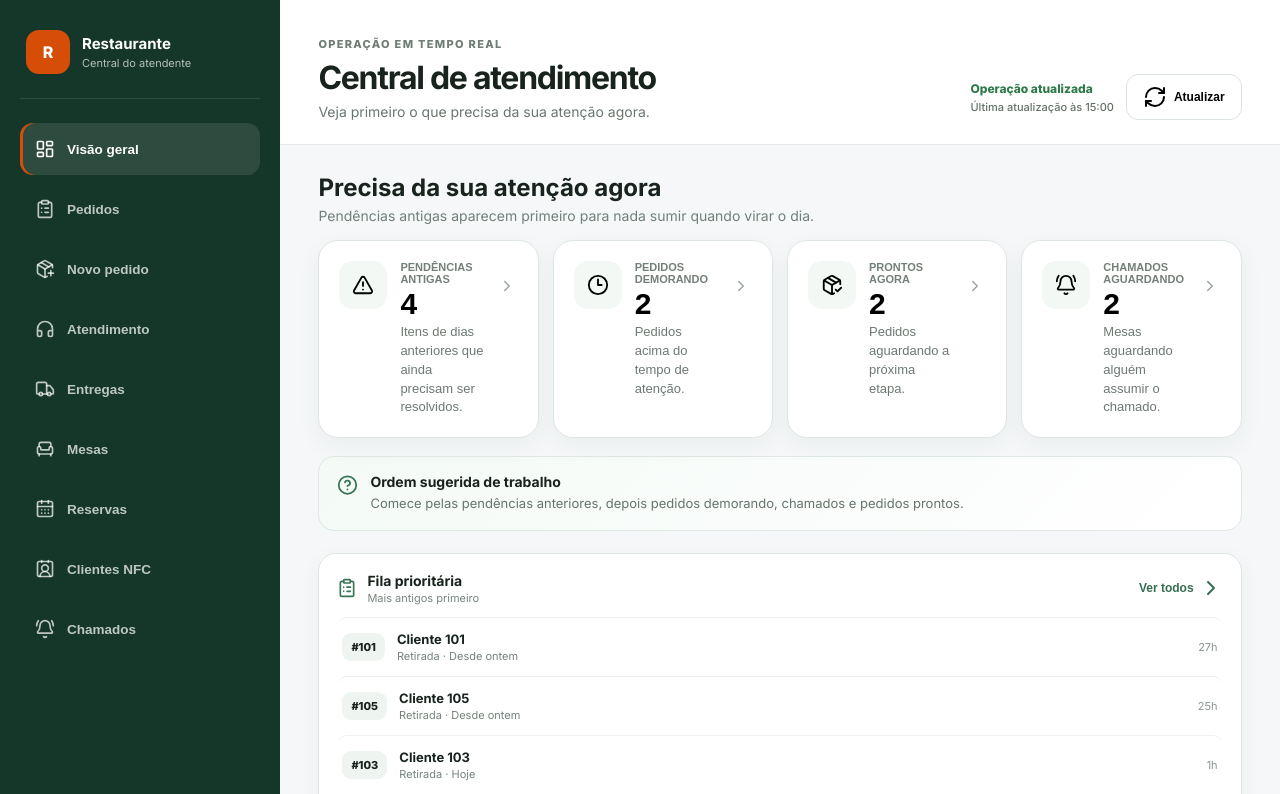
Test: AttendantOperationCenterV2 priority navigation › abre só pedidos prontos ou demorando, coerentes com a contagem do cartão
Expected: the 2nd text "2" is shown, [869,287,886,320]
Step 1. Click the button "Prontos agora 2 Pedidos aguardando a próxima etapa." → (897, 339), box [787,240,1007,438]
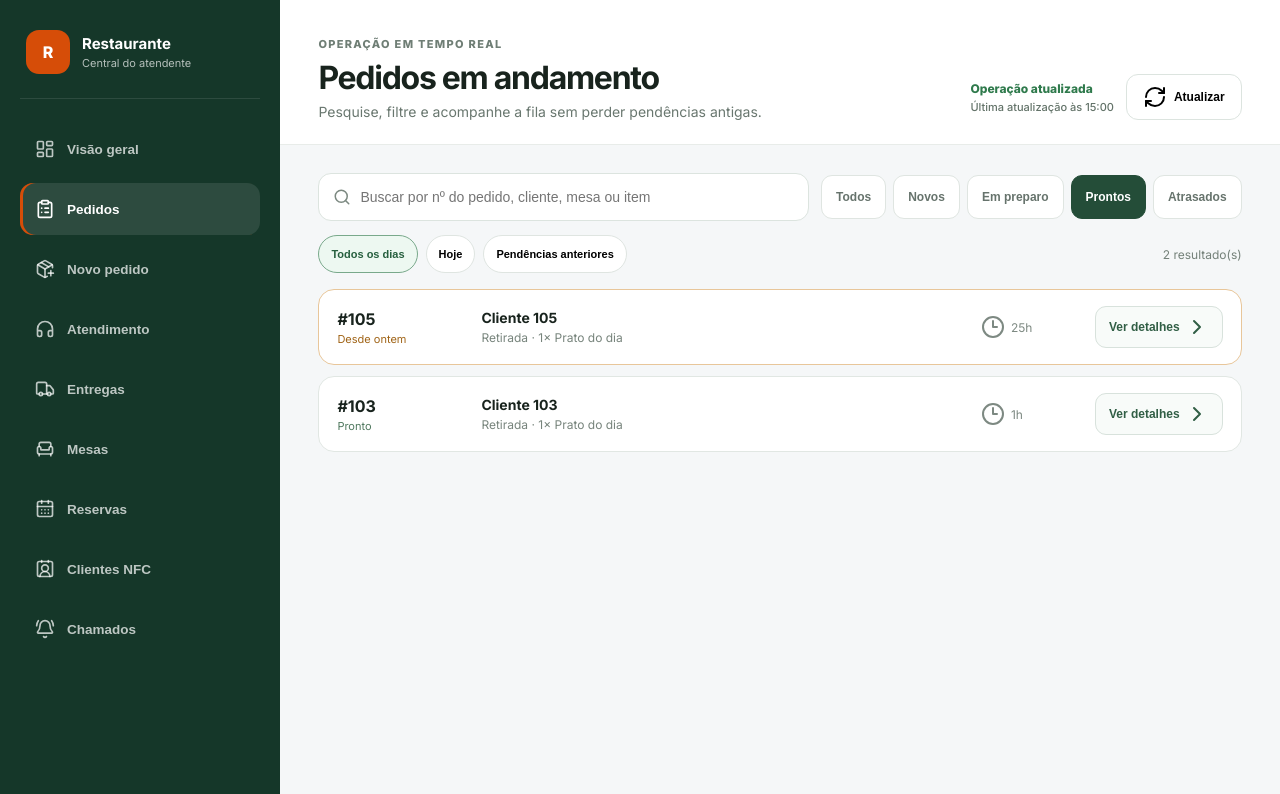
Expected: the button "Prontos" is shown, [1071,175,1146,219]
Step 2. Click the button "Visão geral" → (140, 149), box [20,123,260,175]
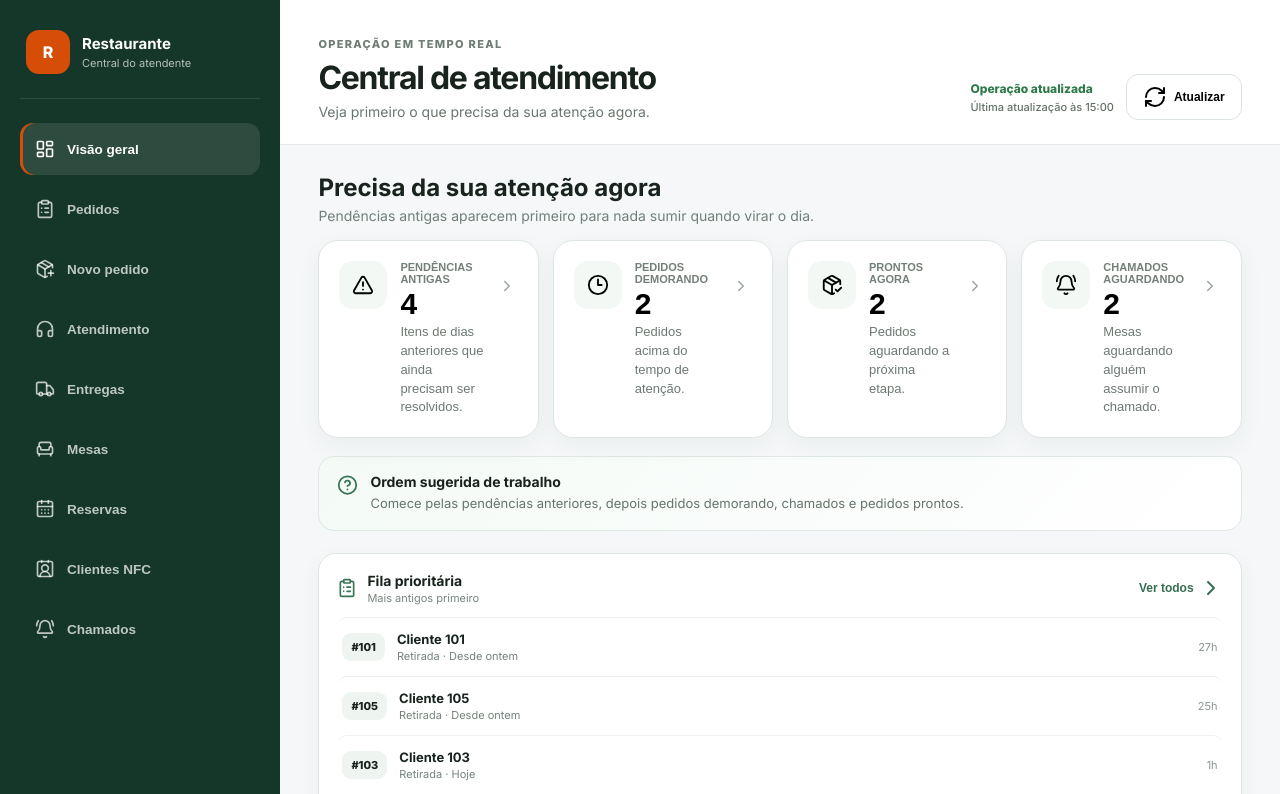
Result: the 1st text "2" is shown at [635,287,651,320]
Result: the button "Pedidos demorando 2 Pedidos acima do tempo de atenção." is shown
Step 3. Click the button "Pedidos demorando 2 Pedidos acima do tempo de atenção." → (663, 339), box [553,240,773,438]
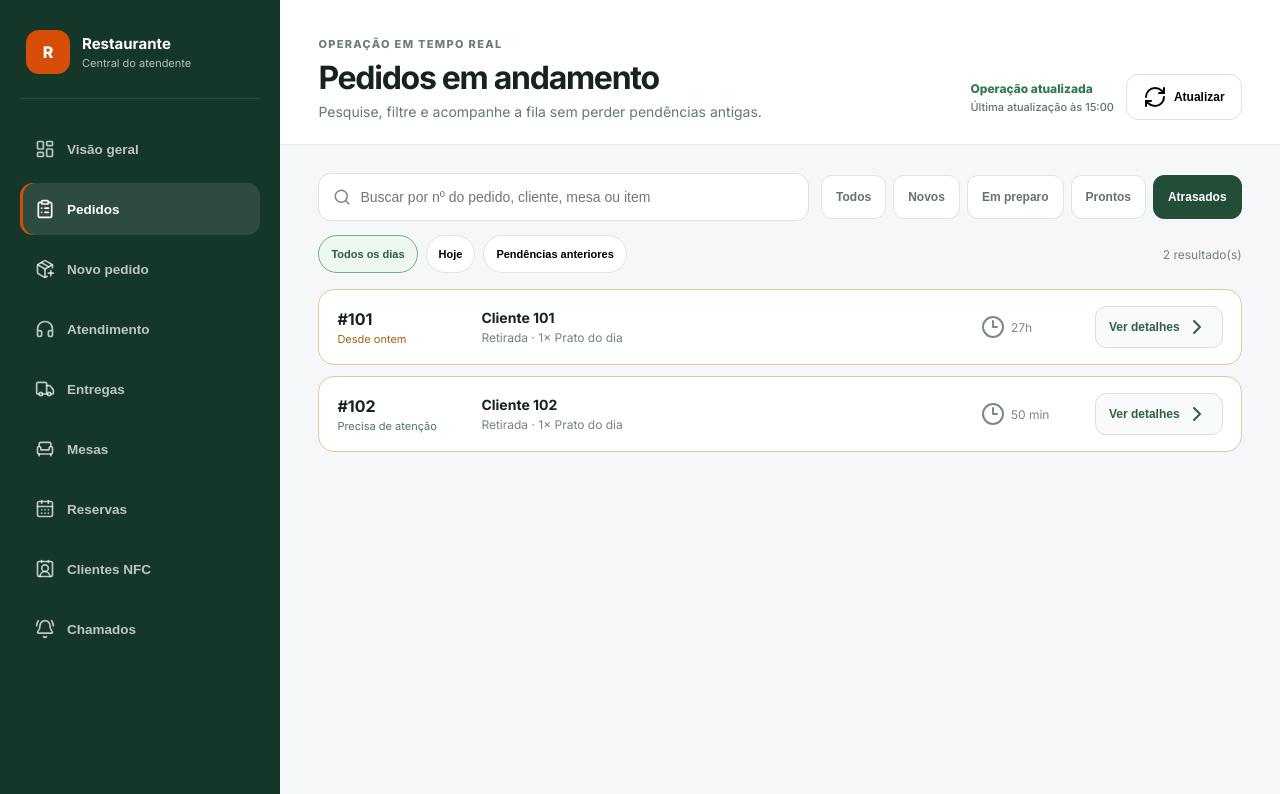
Result: the button "Atrasados" is shown at [1153,175,1242,219]
